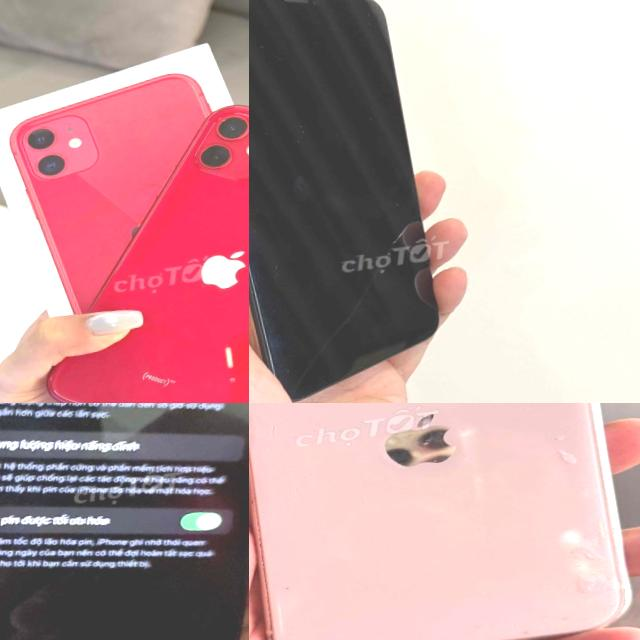scratch: (541, 421, 629, 628), (488, 615, 544, 640), (412, 434, 454, 455), (270, 262, 288, 290), (249, 0, 283, 6), (281, 585, 293, 595)
